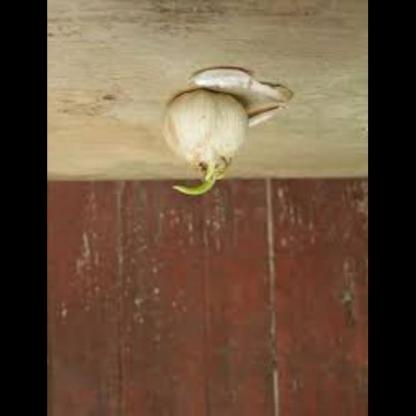garlic: (151, 92, 258, 198), (176, 58, 282, 102)
